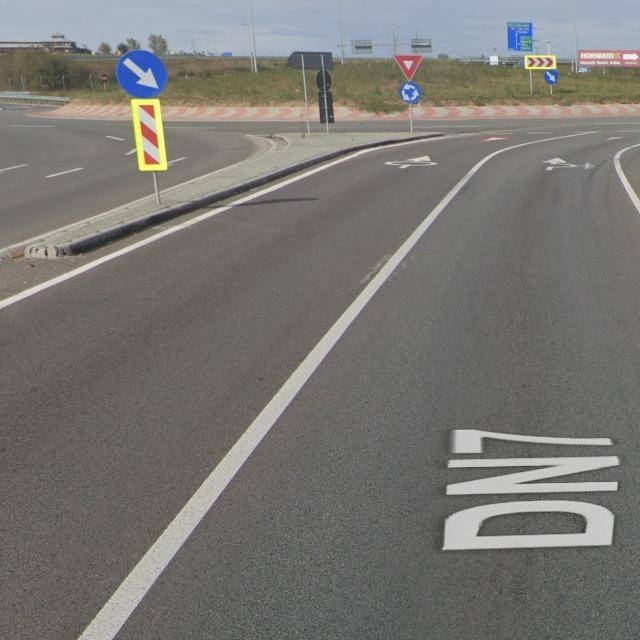prio_give_way: (395, 54, 424, 81)
